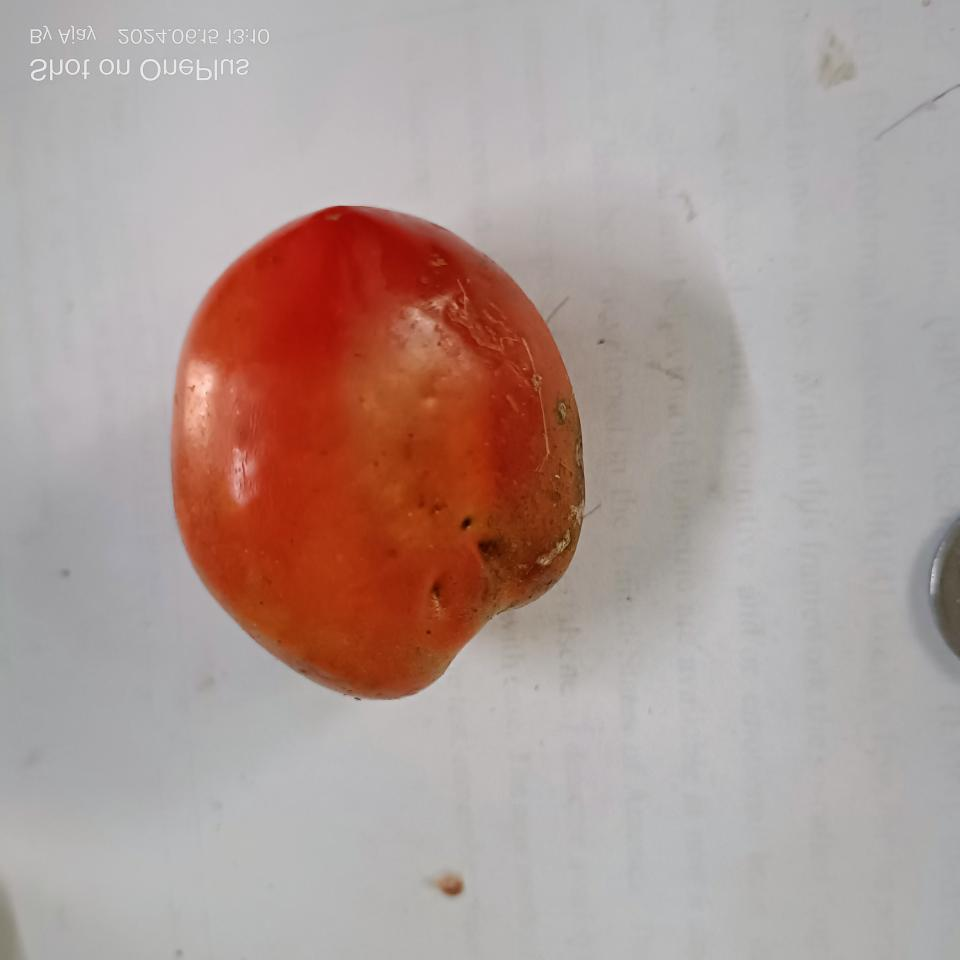Bacterial_Spot: (419, 578, 457, 620), (452, 498, 479, 540)
